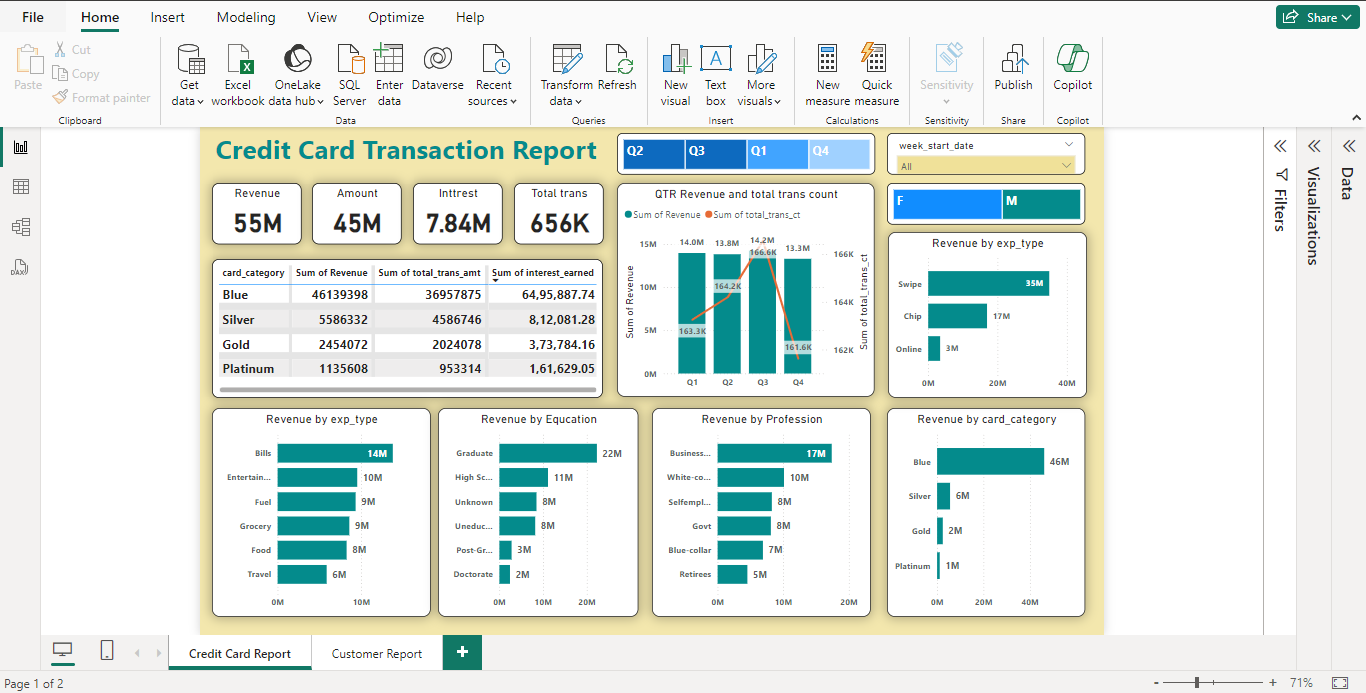

What the dashboard file says about the page in this screenshot:
{"tool":"powerbi","page":{"name":"Credit Card Report ","canvas":[1280,720],"ordinal":0},"visuals":[{"type":"clusteredBarChart","title":" Revenue by card_category","fields":{"Category":["public cc_detail.card_category"],"Y":["Sum(public cc_detail.Revenue)"]},"box":[974.3,398.6,281.4,295.7],"z":0},{"type":"tableEx","fields":{"Values":["public cc_detail.card_category","Sum(public cc_detail.Revenue)","Sum(public cc_detail.total_trans_amt)","Sum(public cc_detail.interest_earned)"]},"box":[17.1,187.1,554.3,197.1],"z":1000},{"type":"textbox","box":[16.7,0,641.7,66.7],"z":2000},{"type":"lineStackedColumnComboChart","title":"QTR Revenue and total trans count","fields":{"Category":["public cc_detail.qtr"],"Y":["Sum(public cc_detail.Revenue)"],"Y2":["Sum(public cc_detail.total_trans_ct)"]},"box":[591.7,80,365,303.3],"z":3000},{"type":"barChart","title":" Revenue by exp_type","fields":{"Y":["Sum(public cc_detail.Revenue)"],"Category":["public cc_detail.exp_type"]},"box":[17.1,398.6,310,295.7],"z":4000},{"type":"barChart","title":" Revenue by Equcation","fields":{"Y":["Sum(public cc_detail.Revenue)"],"Category":["public cust_detail.education_level"]},"box":[337.1,398.6,284.3,295.7],"z":5000},{"type":"barChart","title":" Revenue by Profession","fields":{"Y":["Sum(public cc_detail.Revenue)"],"Category":["public cust_detail.customer_job"]},"box":[640,398.6,310,295.7],"z":6000},{"type":"barChart","title":" Revenue by exp_type","fields":{"Y":["Sum(public cc_detail.Revenue)"],"Category":["public cc_detail.use_chip"]},"box":[975,148.3,281.7,235],"z":7000},{"type":"card","title":"Revenue","fields":{"Values":["Sum(public cc_detail.Revenue)"]},"box":[16.7,80,126.7,86.7],"z":7001},{"type":"card","title":"Amount","fields":{"Values":["Sum(public cc_detail.total_trans_amt)"]},"box":[158.3,80,126.7,86.7],"z":7002},{"type":"card","title":"Inttrest","fields":{"Values":["Sum(public cc_detail.interest_earned)"]},"box":[302.2,80,126.7,86.7],"z":7003},{"type":"card","title":"Total trans","fields":{"Values":["Sum(public cc_detail.total_trans_ct)"]},"box":[445,80,126.7,86.7],"z":7004},{"type":"slicer","fields":{"Values":["public cc_detail.week_start_date"]},"box":[974.3,8.6,281.4,58.6],"z":7005},{"type":"treemap","fields":{"Group":["public cc_detail.qtr"],"Values":["CountNonNull(public cc_detail.client_num)"]},"box":[591.4,8.6,365.7,58.6],"z":7006},{"type":"treemap","fields":{"Values":["CountNonNull(public cc_detail.client_num)"],"Group":["public cust_detail.gender"]},"box":[974.3,80,281.4,58.6],"z":7007}]}

Visuals, with their boxes on the page's 1280x720 design canvas (x1, y1, x2, y2). These are canvas units, not pixel positions in the 1366x693 screenshot, which may show the page scaled, cropped or inside an application window:
" Revenue by card_category" clusteredBarChart: l=974, t=399, r=1256, b=694
tableEx - public cc_detail.card_category x Sum(public cc_detail.Revenue): l=17, t=187, r=571, b=384
textbox: l=17, t=0, r=658, b=67
"QTR Revenue and total trans count" lineStackedColumnComboChart: l=592, t=80, r=957, b=383
" Revenue by exp_type" barChart: l=17, t=399, r=327, b=694
" Revenue by Equcation" barChart: l=337, t=399, r=621, b=694
" Revenue by Profession" barChart: l=640, t=399, r=950, b=694
" Revenue by exp_type" barChart: l=975, t=148, r=1257, b=383
"Revenue" card: l=17, t=80, r=143, b=167
"Amount" card: l=158, t=80, r=285, b=167
"Inttrest" card: l=302, t=80, r=429, b=167
"Total trans" card: l=445, t=80, r=572, b=167
slicer - public cc_detail.week_start_date: l=974, t=9, r=1256, b=67
treemap - public cc_detail.qtr x CountNonNull(public cc_detail.client_num): l=591, t=9, r=957, b=67
treemap - CountNonNull(public cc_detail.client_num) x public cust_detail.gender: l=974, t=80, r=1256, b=139
